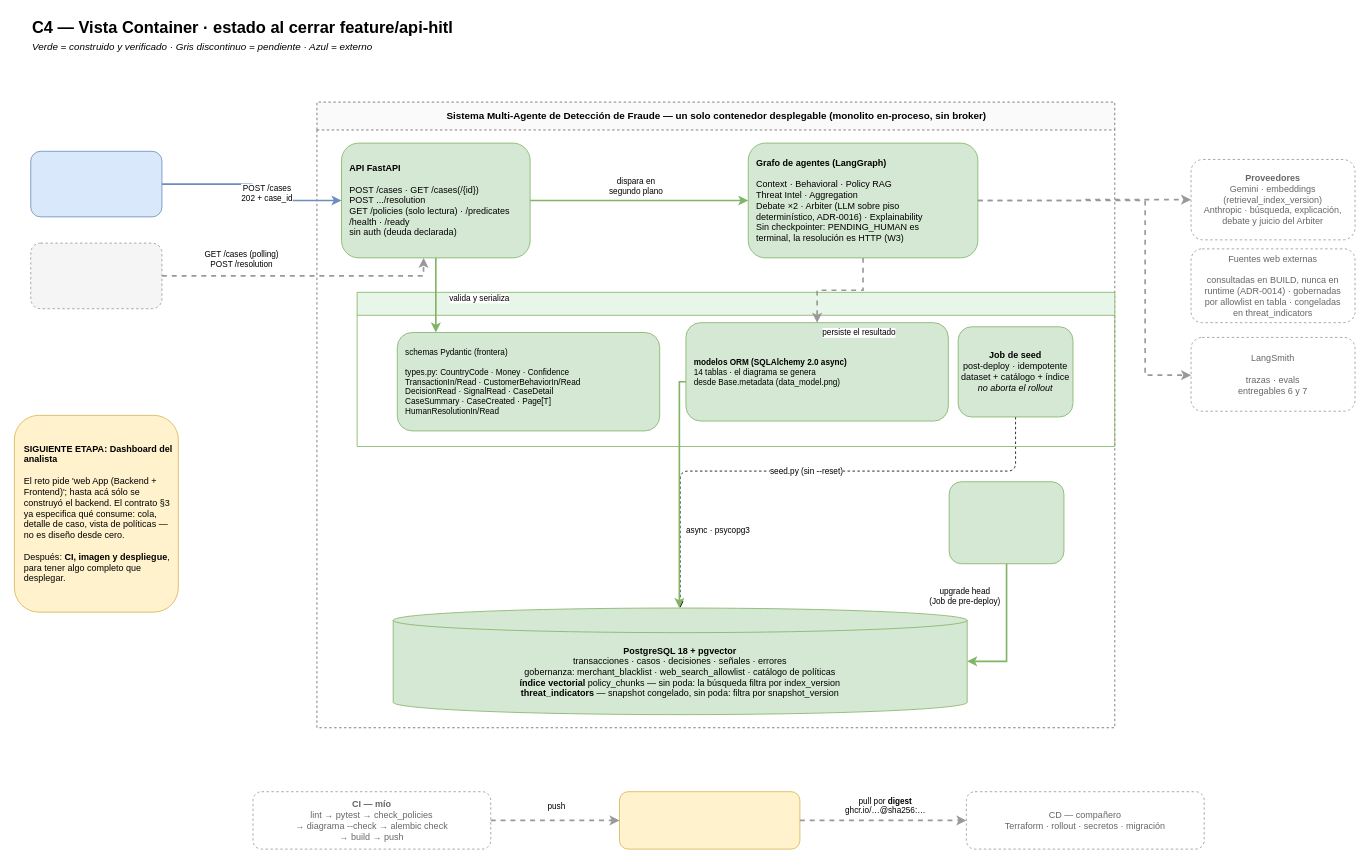
Image size: 1369x863. Some labels were removed from this diagram. Here are the shapes that lost their labels. From the top down, the box of each, then its label:
(30, 150, 162, 217): Pasarela de pagos sistema origen
(30, 242, 162, 309): Analista de fraude dashboard (polling)
(356, 292, 1115, 446): Dominio · recuperación · explicabilidad
(948, 481, 1064, 564): Alembic sync · 15 migraciones
(619, 791, 800, 849): GHCR tags legibles (semver, sha) EL HAND-OFF ES EL DIGEST
